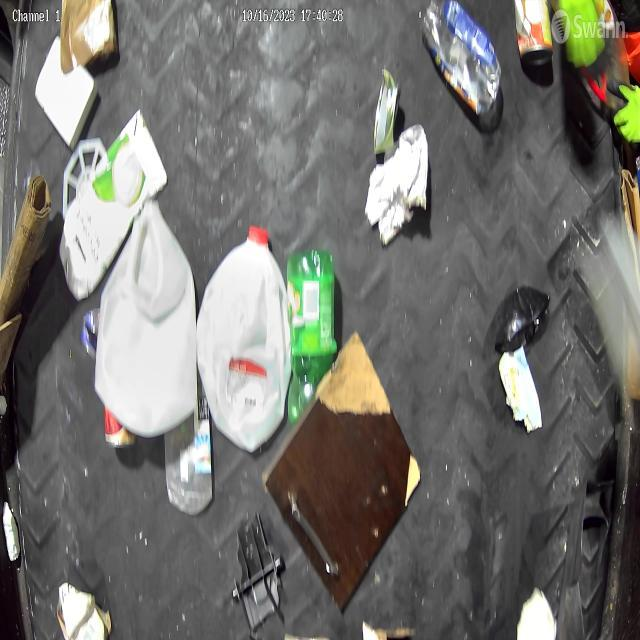can: (374, 64, 402, 164)
milk_jug: (98, 196, 196, 440), (200, 214, 294, 456)
plastic_bottle: (420, 0, 498, 108)
